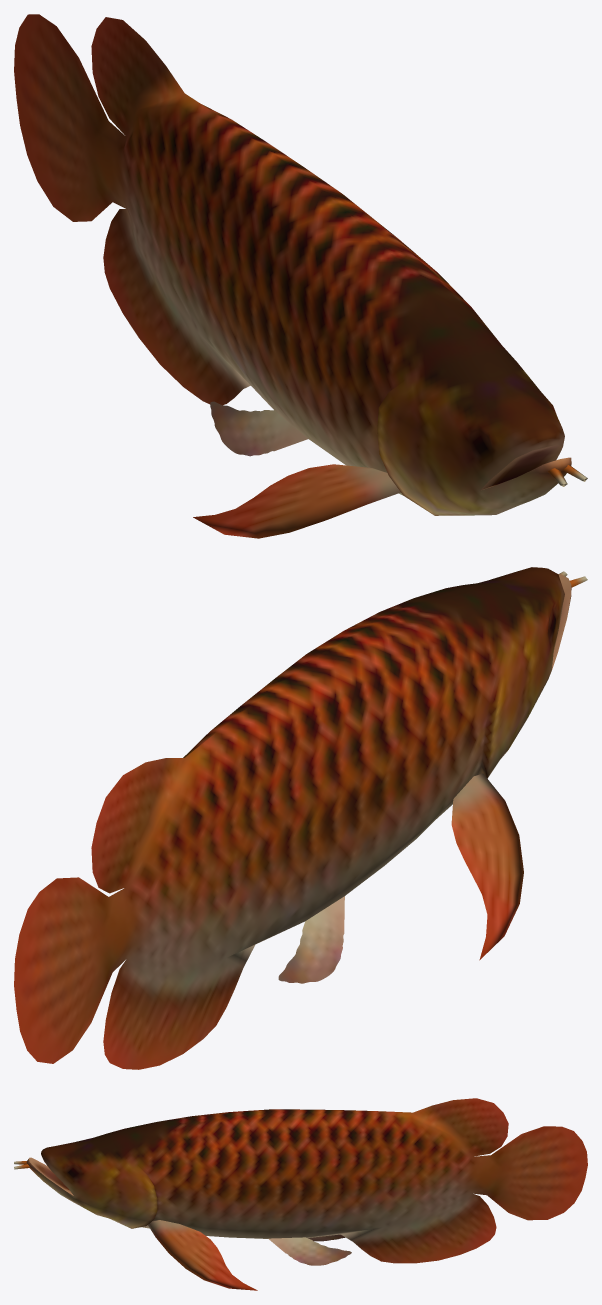
Rendered from arowana.glb.
The picture shows the model from 3 angles, top to bottom: view 1: azimuth 30°, elevation 25°; view 2: azimuth 150°, elevation 25°; view 3: azimuth 270°, elevation 25°; orthographic projection. The views are drawn at different scales.
Bounding box in the file's own units: 3.64 × 3.91 × 12.32.
Materials: 1 (1 with a texture image).
